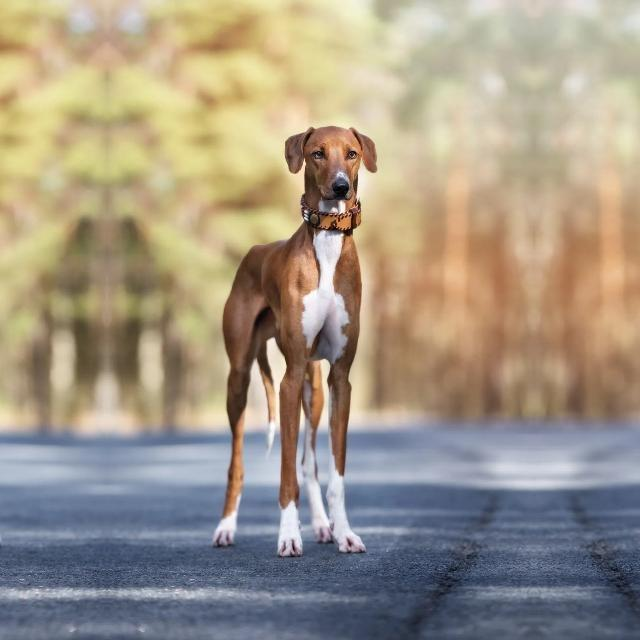dog: (186, 100, 410, 578), (0, 100, 25, 578)
